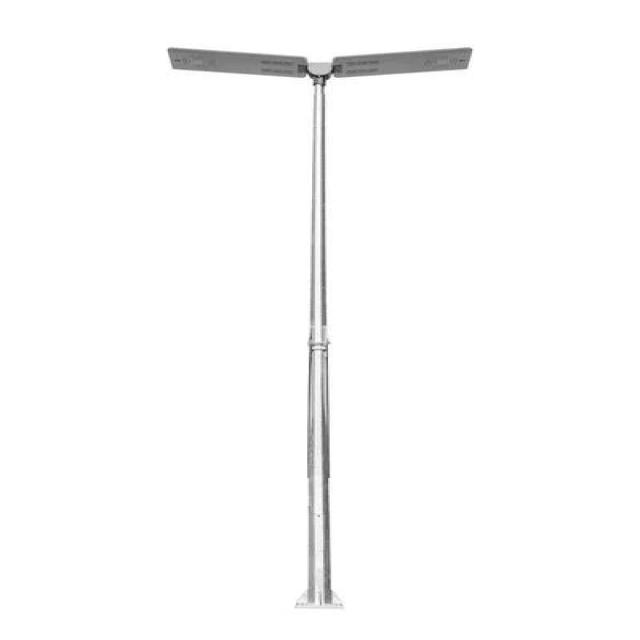Pole: (168, 47, 472, 609)
